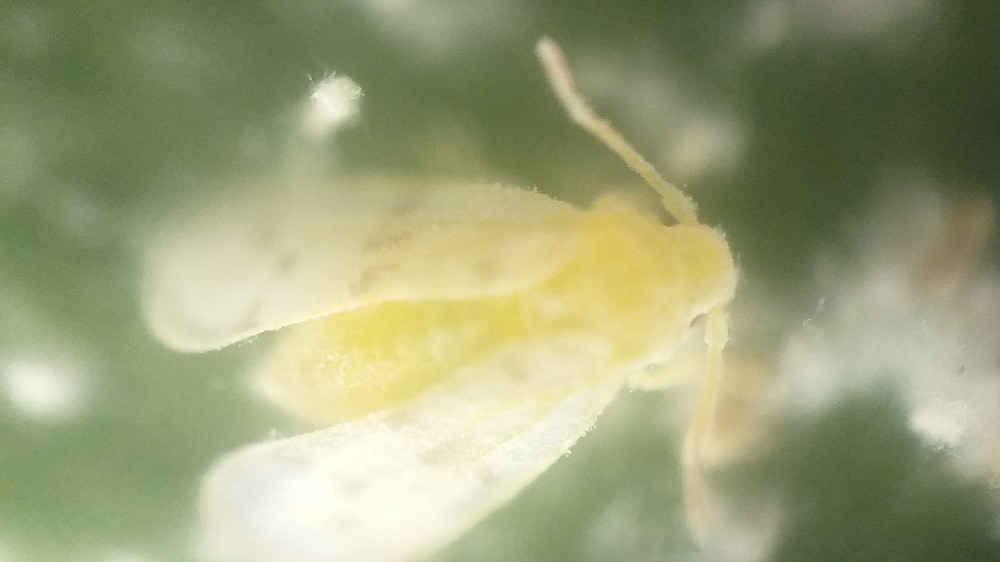Mosca Blanca: (137, 35, 765, 561)
